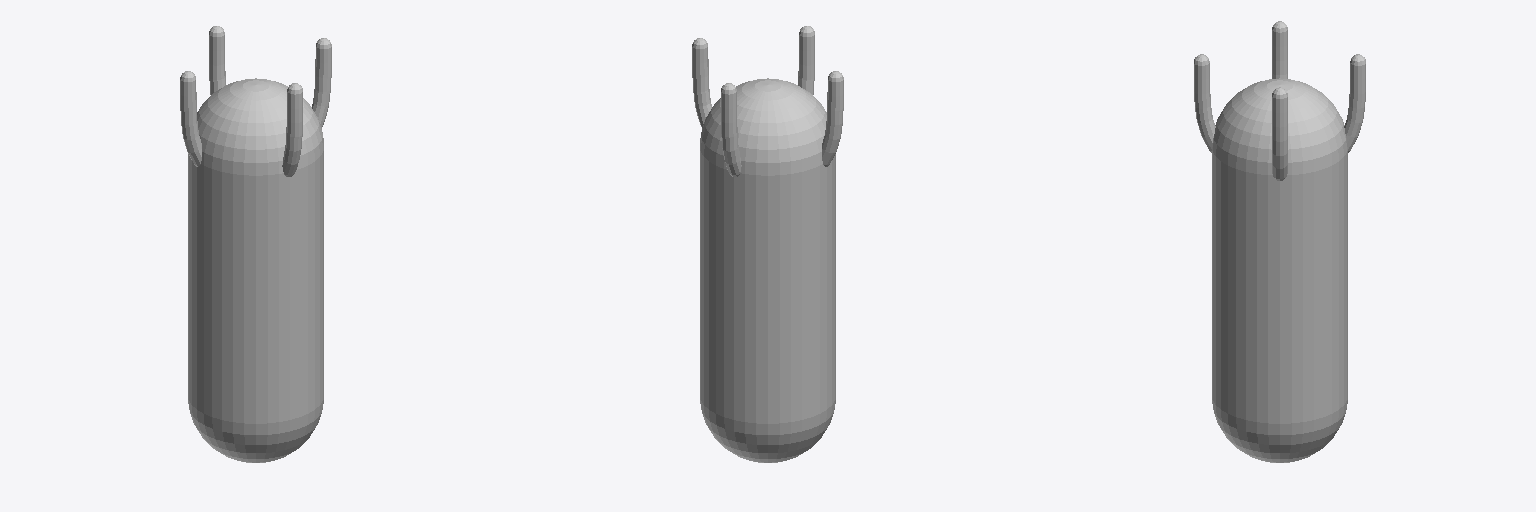
File: Bacteria_Rad25_1_4.obj
3 views of the same model, side by side, from view 1: azimuth 30°, elevation 25°; view 2: azimuth 150°, elevation 25°; view 3: azimuth 270°, elevation 25° (orthographic).
Visible parts, largest first — view 1: Bacteria_Rad25_1_3_mesh_ID8; view 2: Bacteria_Rad25_1_3_mesh_ID8; view 3: Bacteria_Rad25_1_3_mesh_ID8.
Part boxes in pixels (x1,y1,x2,y2): Bacteria_Rad25_1_3_mesh_ID8: (180, 26, 331, 462); Bacteria_Rad25_1_3_mesh_ID8: (692, 26, 843, 462); Bacteria_Rad25_1_3_mesh_ID8: (1194, 21, 1365, 462).
Size of the model in its own units: 6.32 by 16.2 by 6.32.